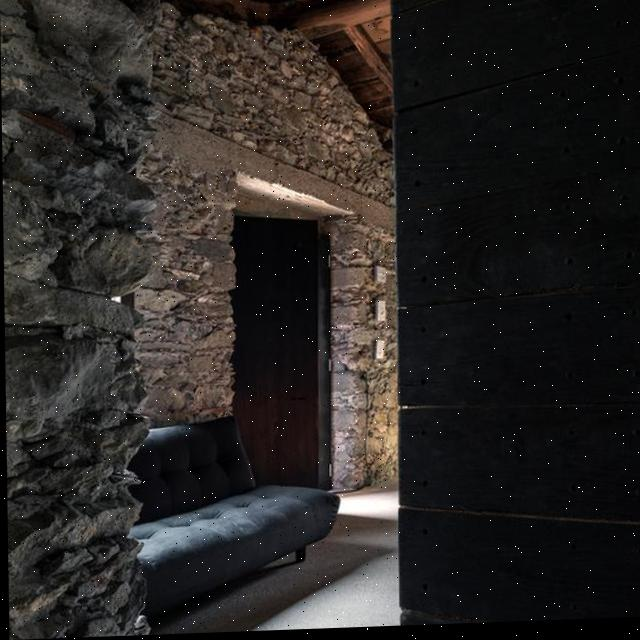building: (0, 0, 399, 511)
